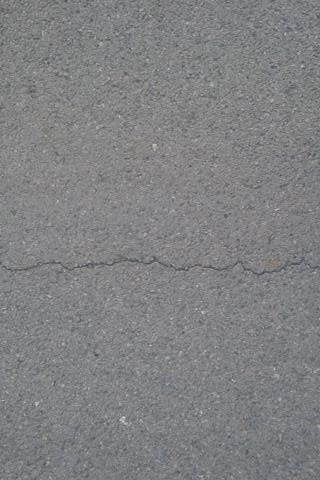A: (2, 257, 319, 276)
